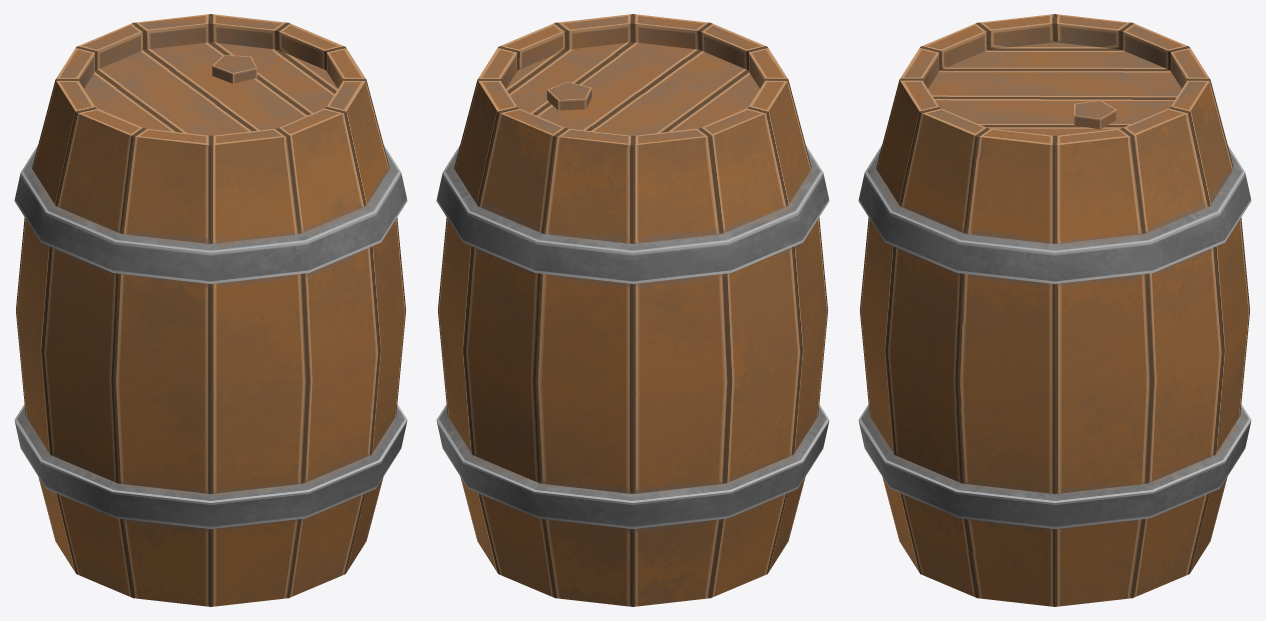
Rendered from barrel.obj.
3 views of the same model, side by side, from view 1: azimuth 30°, elevation 25°; view 2: azimuth 150°, elevation 25°; view 3: azimuth 270°, elevation 25° (orthographic).
Visible parts, largest first — view 1: Barrel; view 2: Barrel; view 3: Barrel.
Part boxes in pixels (bbox=[...]): Barrel: bbox=[14, 14, 407, 606]; Barrel: bbox=[436, 14, 829, 606]; Barrel: bbox=[858, 14, 1251, 606].
Size of the model in its own units: 0.6948 by 0.9 by 0.6948.
Materials: 1 (1 with a texture image).
